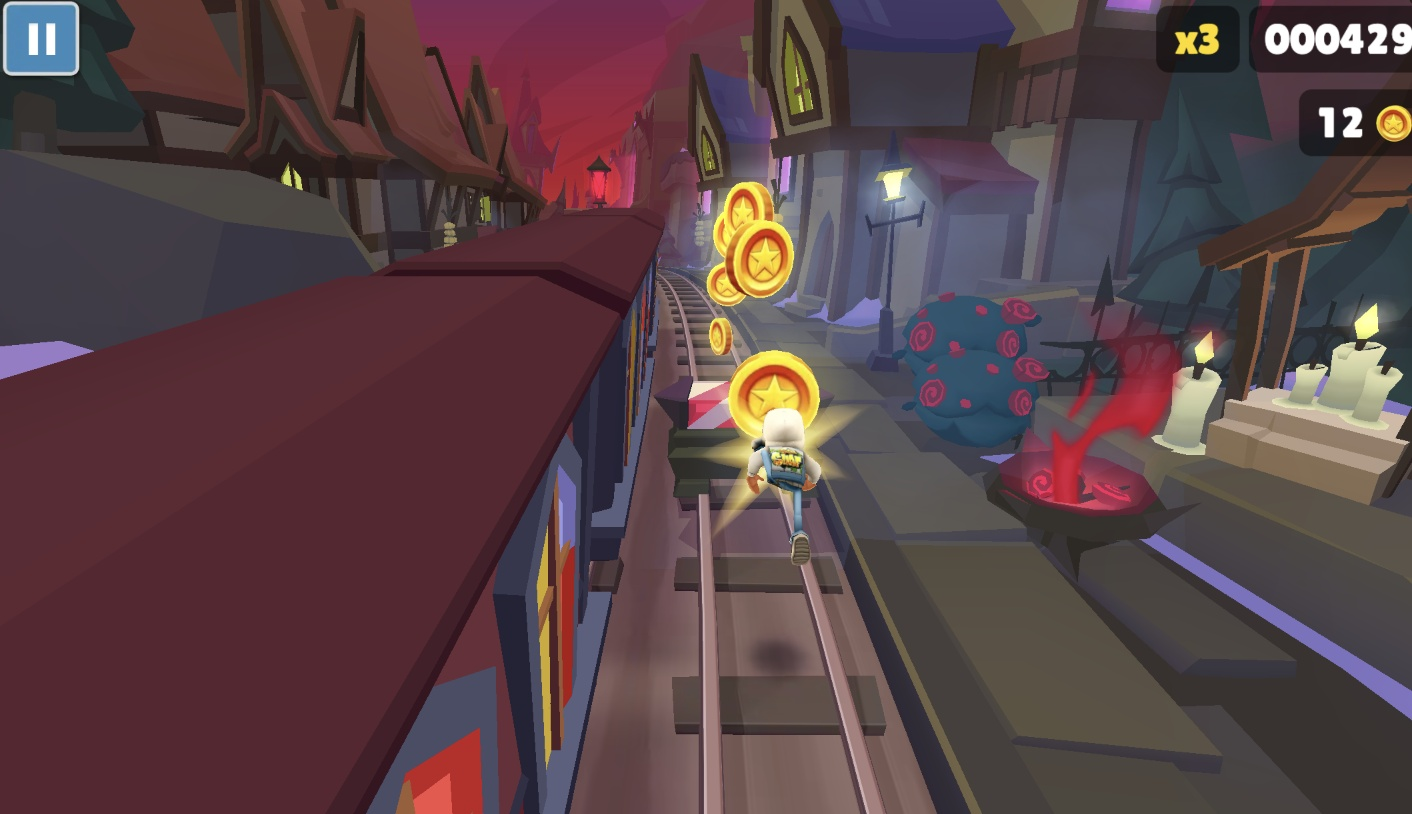ground_barrier: (653, 378, 824, 513)
train: (0, 208, 668, 814)
